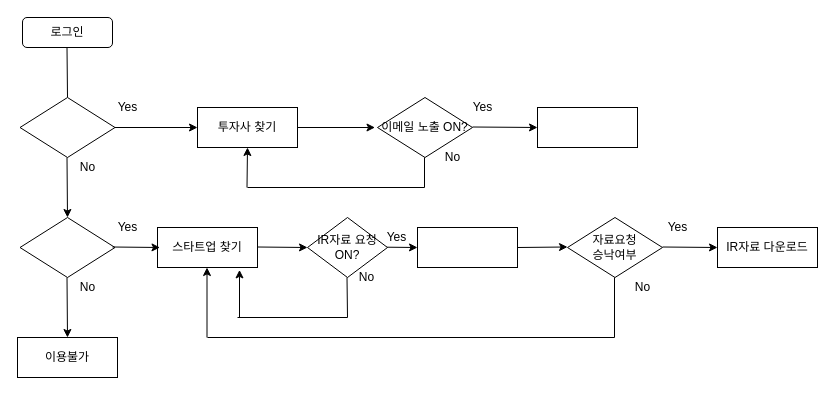
This 835x395 diagram has some shape labels left out. The shapes that lost their labels are listed below. From the top down, each one's centre as x and y in pixels, then its label:
At (x=67, y=127): "기업회원인가?".
At (x=587, y=127): "IR자료 보내기".
At (x=67, y=247): "투자사인가?".
At (x=467, y=247): "IR자료 요청".
